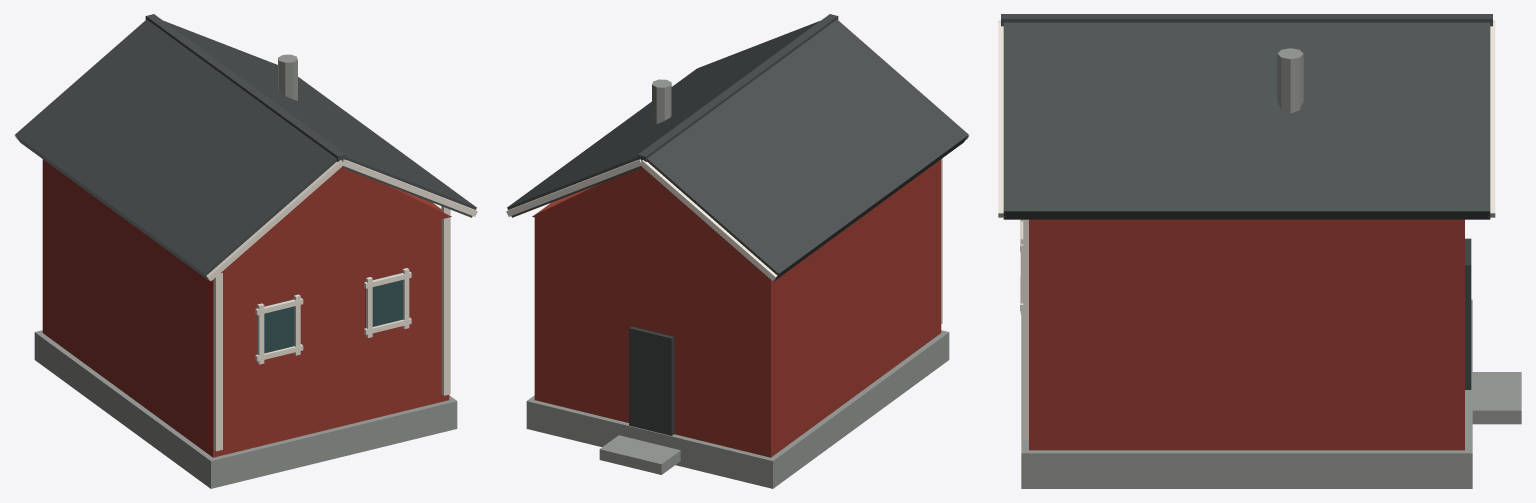
File: norway-house-red-white_lod0.glb
3 renders of one model, left to right at view 1: azimuth 30°, elevation 25°; view 2: azimuth 150°, elevation 25°; view 3: azimuth 270°, elevation 25°, orthographic. The views are drawn at different scales.
Parts seen in each view (by area): view 1: RF_House_Walls, RF_House_RoofA, RF_House_Foundation, RF_House_Gables, RF_House_RoofB, RF_House_RidgeCap, RF_House_Corner.001, RF_House_Corner, RF_House_VergeLeftFront, RF_House_WindowRecess.001, RF_House_WindowRecess, RF_House_VergeRightFront (+1 smaller); view 2: RF_House_Walls, RF_House_RoofA, RF_House_Foundation, RF_House_Gables, RF_House_RoofB, RF_House_Door, RF_House_RidgeCap, RF_House_Threshold, RF_House_VergeLeftRear, RF_House_VergeRightRear, RF_House_Chimney; view 3: RF_House_Walls, RF_House_RoofB, RF_House_Foundation, RF_House_RidgeCap, RF_House_Threshold, RF_House_Chimney, RF_House_Corner.001, RF_House_VergeRightFront, RF_House_VergeRightRear, RF_House_Door.
Boxes of the visible parts, x1=… form: RF_House_Walls: x1=42, y1=159, x2=449, y2=457; RF_House_RoofA: x1=15, y1=19, x2=336, y2=281; RF_House_Foundation: x1=34, y1=330, x2=457, y2=488; RF_House_Gables: x1=221, y1=167, x2=451, y2=272; RF_House_RoofB: x1=163, y1=20, x2=476, y2=217; RF_House_RidgeCap: x1=145, y1=14, x2=346, y2=161; RF_House_Corner.001: x1=441, y1=206, x2=450, y2=395; RF_House_Corner: x1=214, y1=272, x2=222, y2=451; RF_House_VergeLeftFront: x1=206, y1=160, x2=343, y2=280; RF_House_WindowRecess.001: x1=365, y1=272, x2=403, y2=327; RF_House_WindowRecess: x1=257, y1=299, x2=294, y2=354; RF_House_VergeRightFront: x1=342, y1=159, x2=477, y2=216; RF_House_Walls: x1=534, y1=159, x2=941, y2=457; RF_House_RoofA: x1=647, y1=19, x2=968, y2=281; RF_House_Foundation: x1=526, y1=330, x2=949, y2=488; RF_House_Gables: x1=532, y1=167, x2=762, y2=272; RF_House_RoofB: x1=507, y1=20, x2=820, y2=217; RF_House_Door: x1=629, y1=326, x2=674, y2=435; RF_House_RidgeCap: x1=637, y1=14, x2=838, y2=161; RF_House_Threshold: x1=599, y1=435, x2=680, y2=474; RF_House_VergeLeftRear: x1=639, y1=160, x2=777, y2=280; RF_House_VergeRightRear: x1=506, y1=159, x2=641, y2=216; RF_House_Chimney: x1=652, y1=79, x2=671, y2=125; RF_House_Walls: x1=1029, y1=219, x2=1464, y2=450; RF_House_RoofB: x1=1003, y1=22, x2=1490, y2=219; RF_House_Foundation: x1=1021, y1=299, x2=1472, y2=488; RF_House_RidgeCap: x1=1001, y1=14, x2=1492, y2=26; RF_House_Threshold: x1=1472, y1=372, x2=1521, y2=424; RF_House_Chimney: x1=1277, y1=48, x2=1303, y2=113; RF_House_Corner.001: x1=1023, y1=219, x2=1028, y2=439; RF_House_VergeRightFront: x1=998, y1=22, x2=1005, y2=217; RF_House_VergeRightRear: x1=1488, y1=22, x2=1495, y2=217; RF_House_Door: x1=1465, y1=238, x2=1471, y2=389.
Bounding box in the file's own units: 9.22 × 10.01 × 12.
